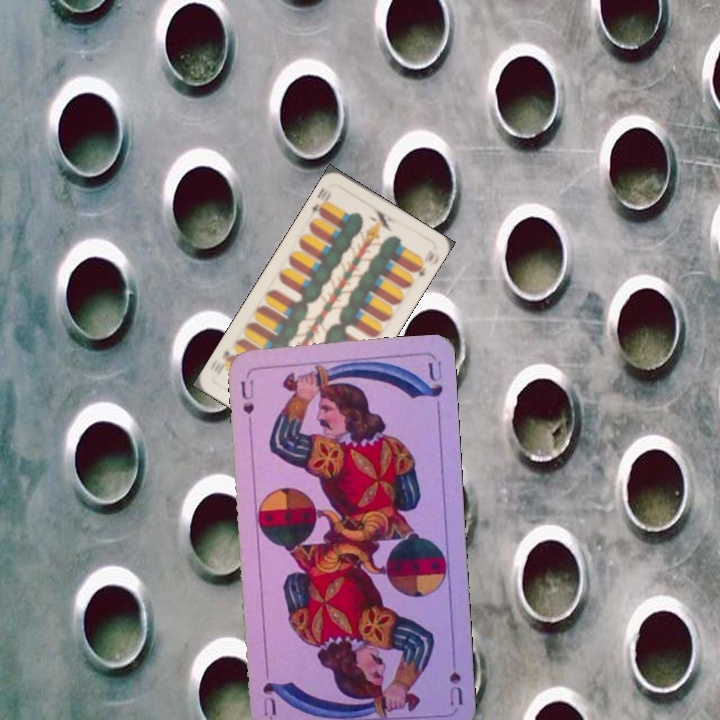E10: (308, 187, 334, 219)
SU: (445, 648, 466, 708), (237, 370, 257, 417)
